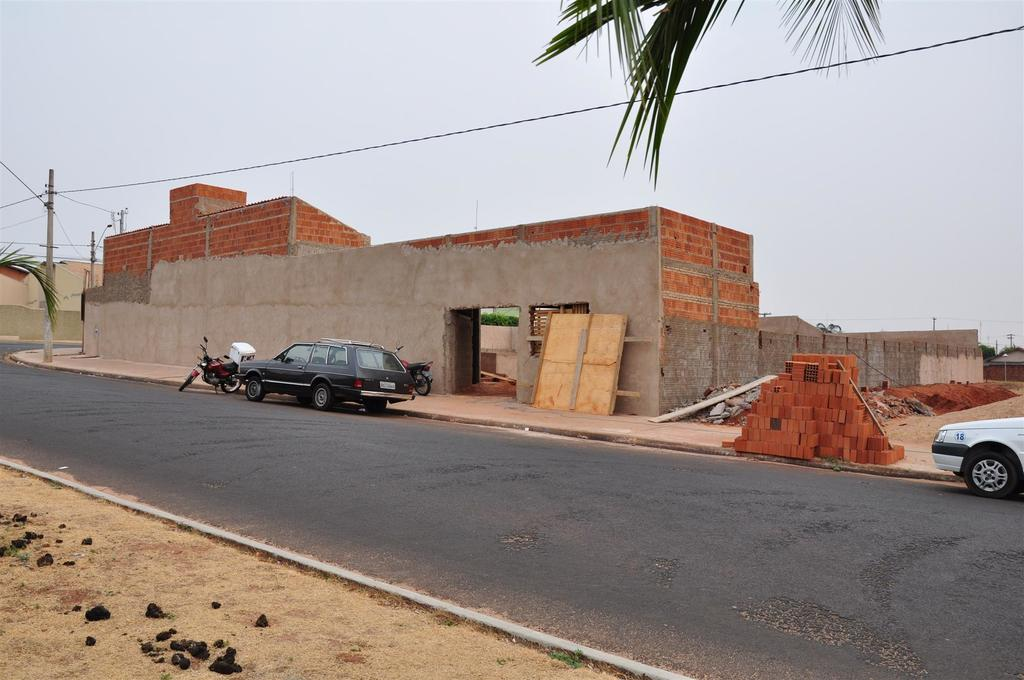mobil: (228, 330, 438, 419)
